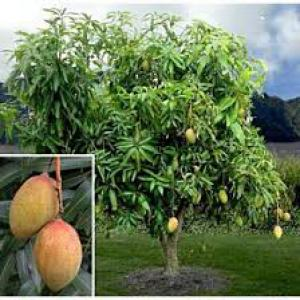Tree: (3, 7, 292, 272)
